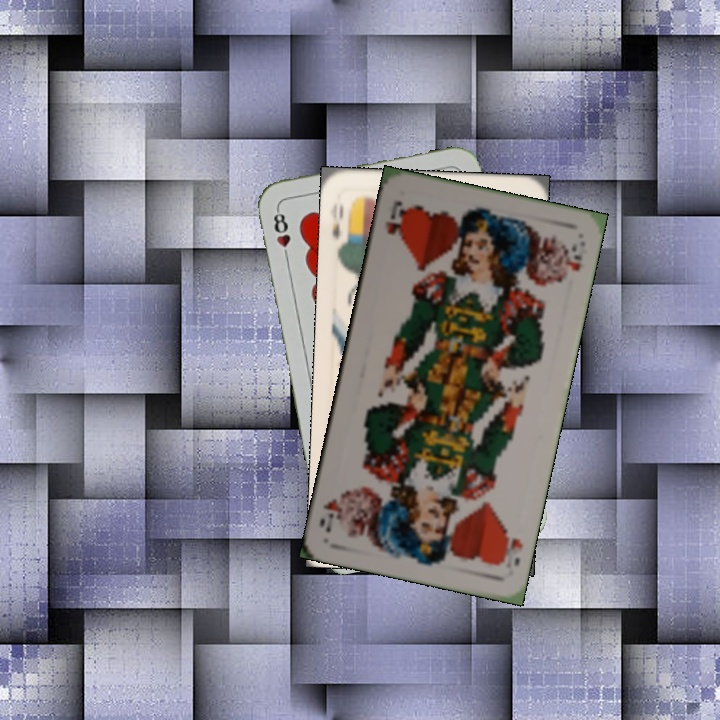EO: (328, 196, 354, 251)
H8: (269, 205, 293, 264)
HO: (495, 525, 526, 571), (381, 197, 410, 243)
